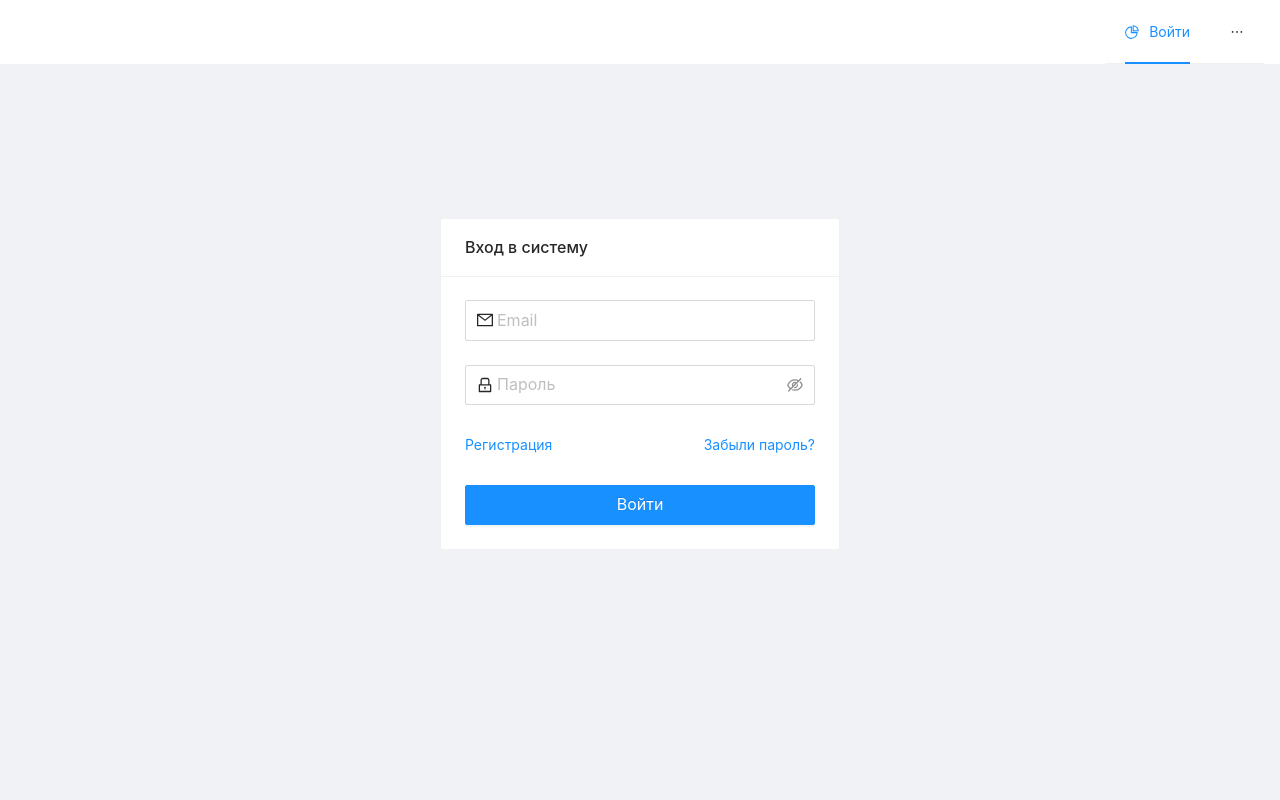
Scenario: Auth › Login › Prevent login with wrong password
In the field with id "login_email": (650, 321) x1=497 y1=308 x2=803 y2=333, type "demo@gmail.com"
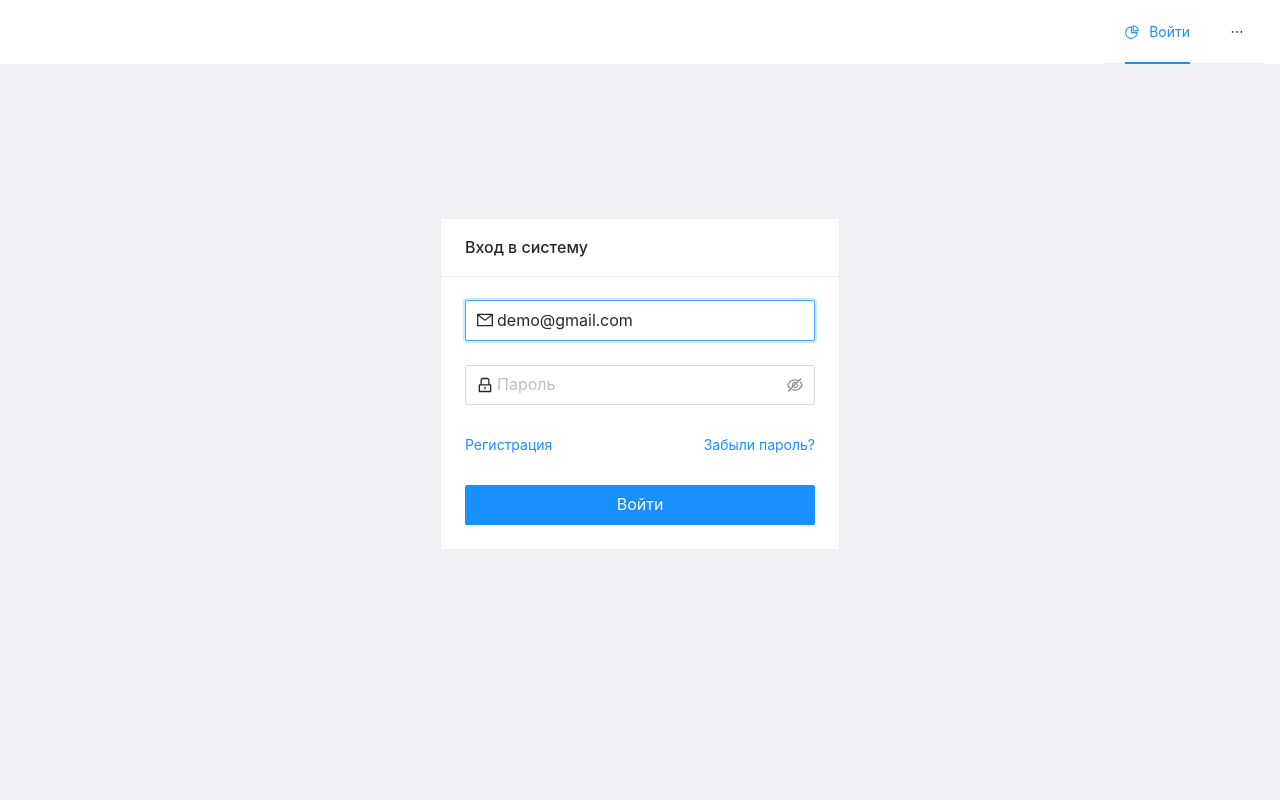
In the password field with id "login_password": (640, 385) x1=497 y1=372 x2=783 y2=397, type "fakePassword"
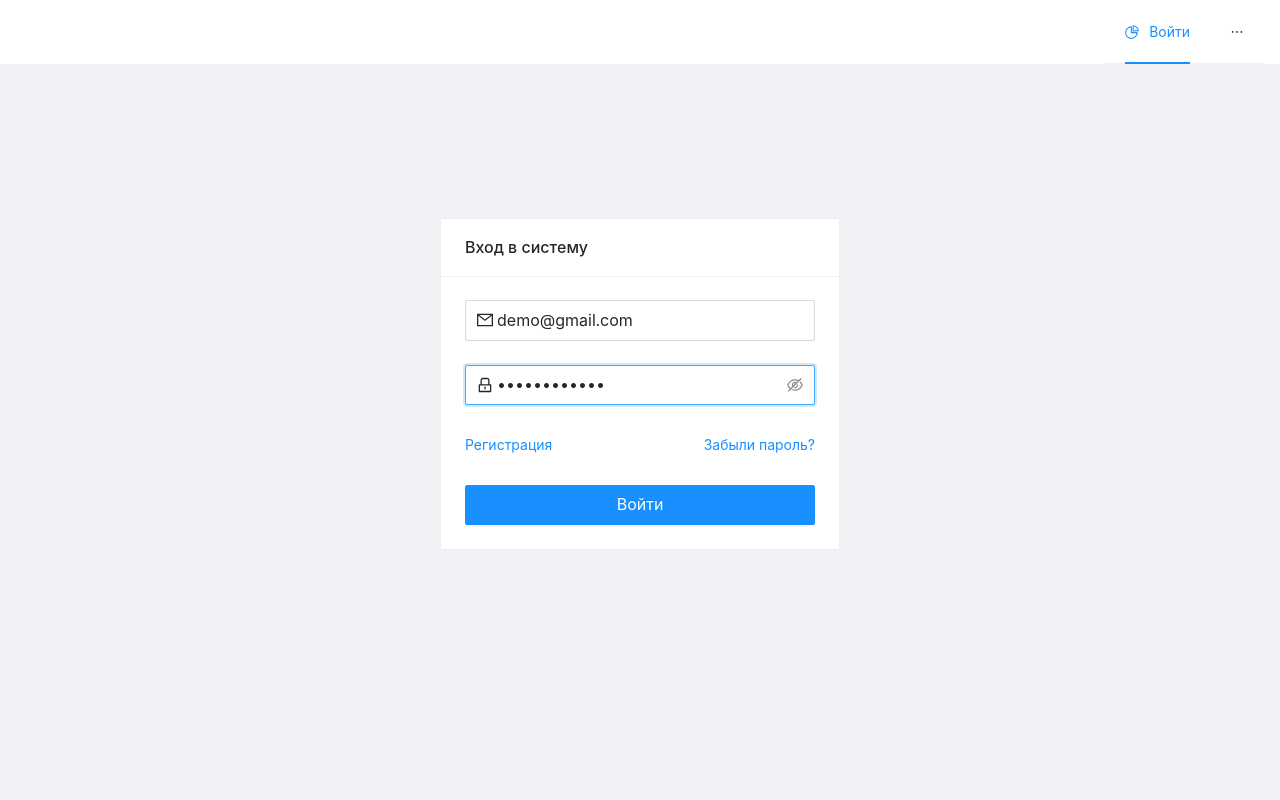
Click the submit button: click(640, 505) x1=465 y1=485 x2=815 y2=525
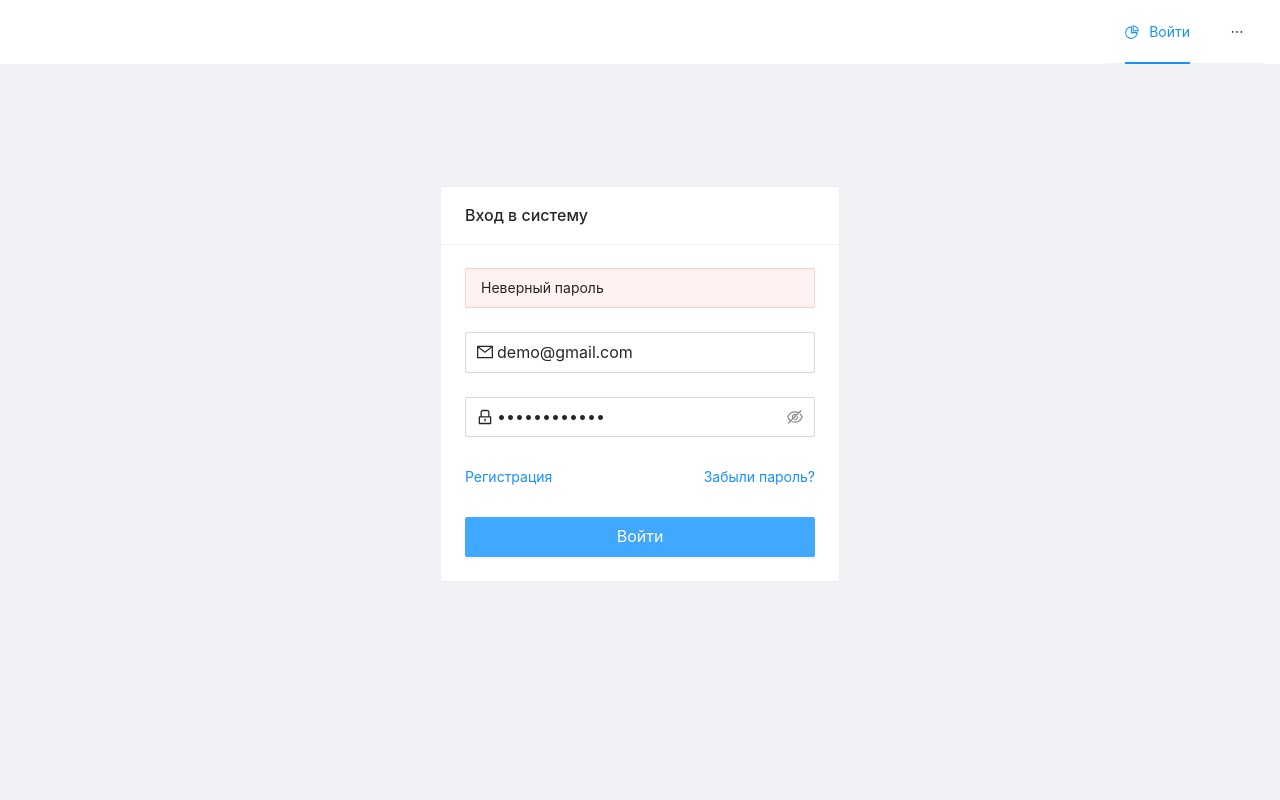
Check: the text "Неверный пароль" is shown, box x1=481 y1=279 x2=604 y2=296
